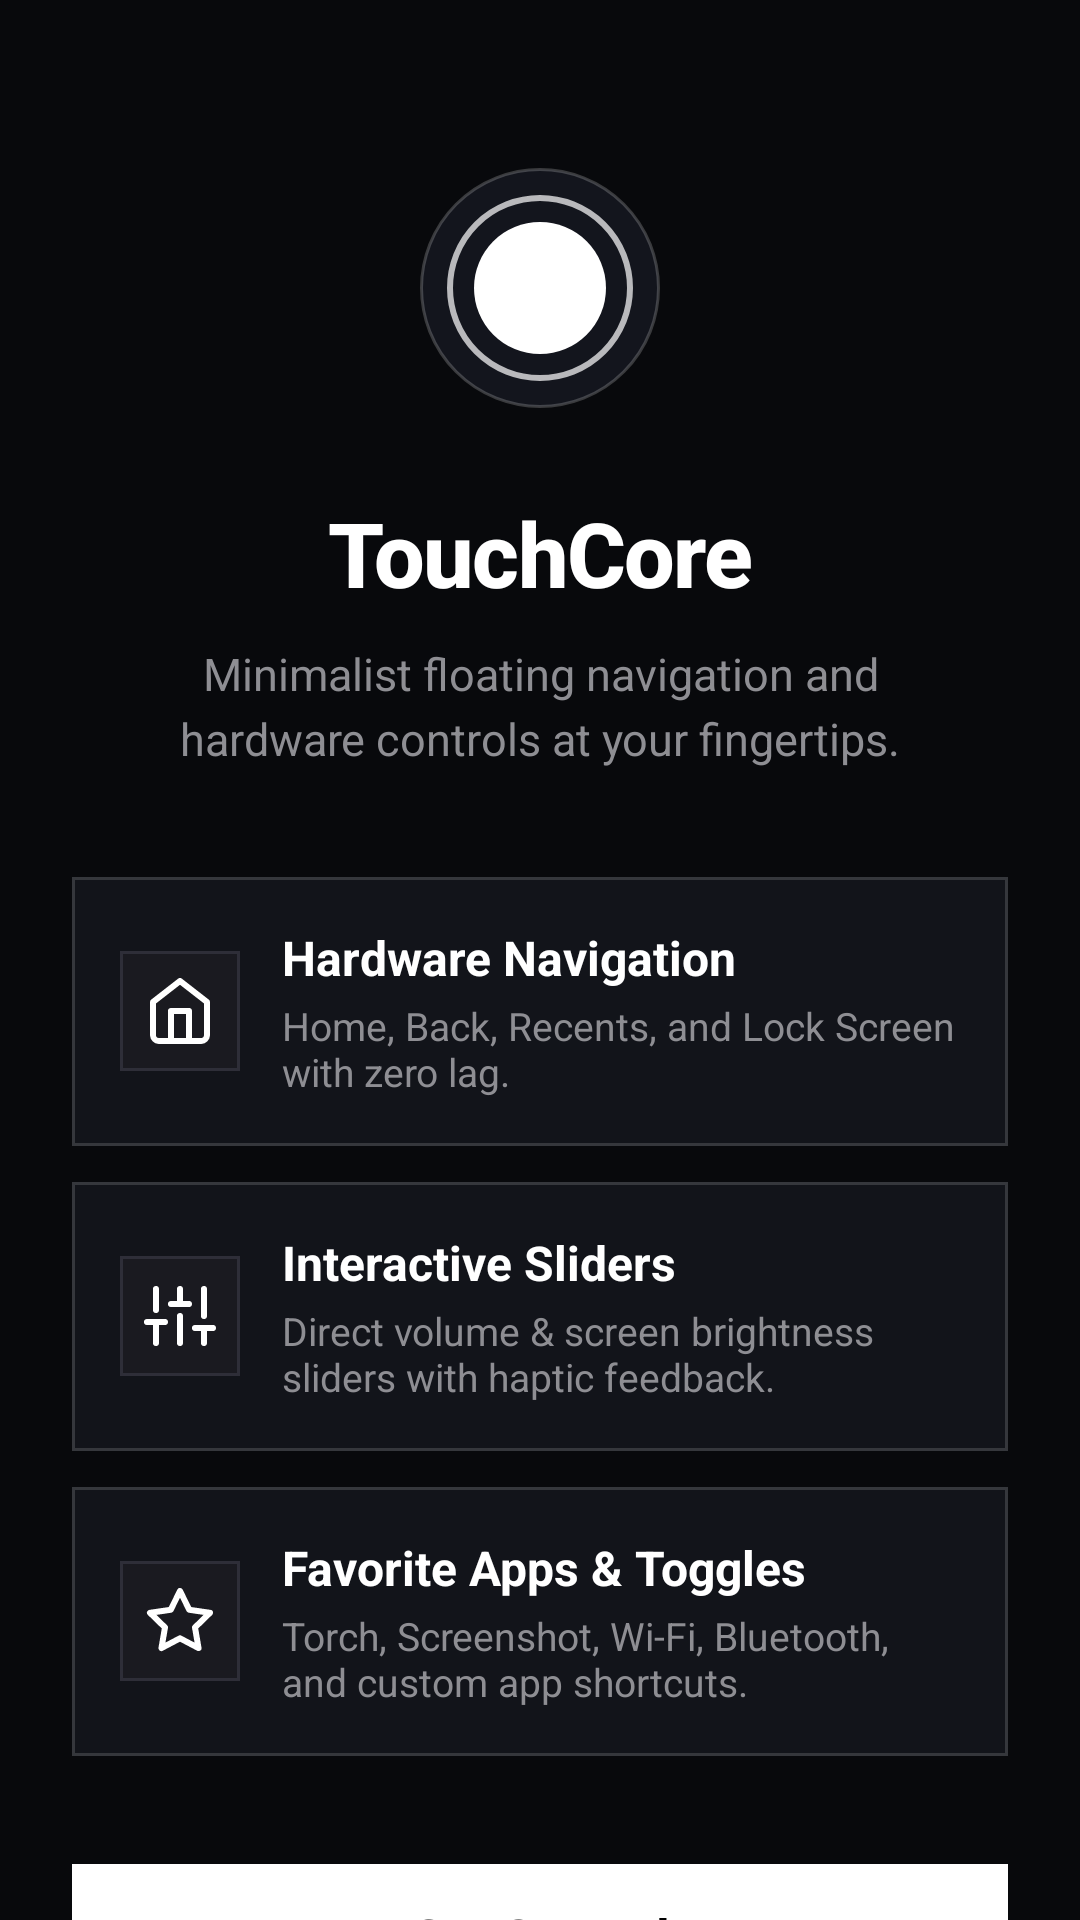

Screen size 1080 × 1920. Icon name, then its center in pixels as (x=x, y=y):
lucide home: (x=180, y=1011)
lucide sliders: (x=180, y=1316)
lucide star: (x=180, y=1621)
